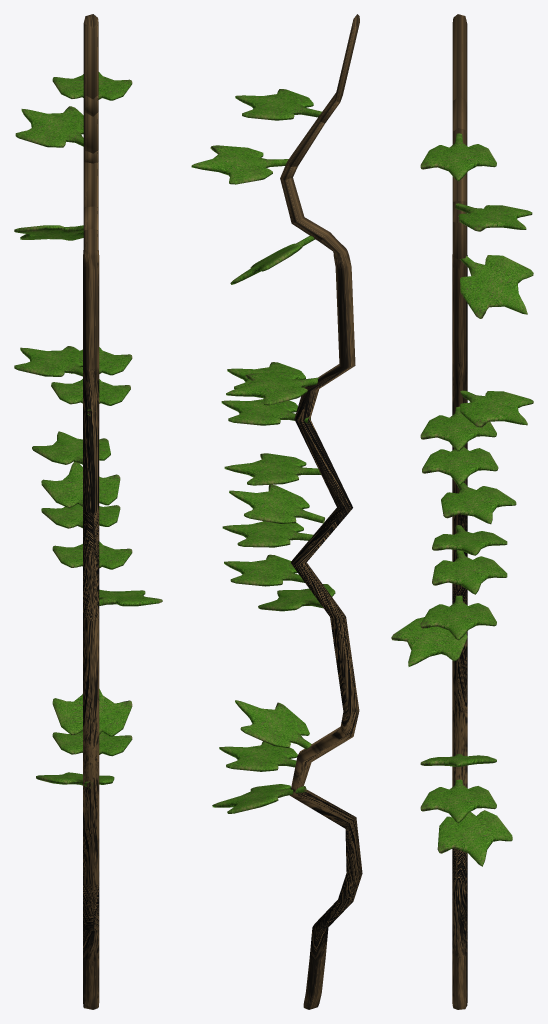
File: vine3.fbx
3 views of the same model, side by side, from view 1: azimuth 90°, elevation 25°; view 2: azimuth 150°, elevation 25°; view 3: azimuth 270°, elevation 25° (orthographic). The views are drawn at different scales.
Visible parts, largest first — view 1: stem6, leaf29, leaf1, leaf6, leaf12, leaf9, leaf30, leaf7, leaf3, leaf, leaf5, leaf13 (+3 smaller); view 2: stem6, leaf1, leaf6, leaf29, leaf12, leaf9, leaf30, leaf3, leaf, leaf5, leaf7, leaf2 (+3 smaller); view 3: stem6, leaf13, leaf2, leaf4, leaf12, leaf9, leaf5, leaf30, leaf3, leaf, leaf7, leaf10 (+3 smaller).
Boxes of the visible parts, <box> form: stem6: <box>83,14,99,1009</box>; leaf29: <box>15,106,83,147</box>; leaf1: <box>52,689,132,736</box>; leaf6: <box>41,462,120,507</box>; leaf12: <box>14,346,82,376</box>; leaf9: <box>32,431,110,464</box>; leaf30: <box>52,72,132,100</box>; leaf7: <box>51,379,130,415</box>; leaf3: <box>52,541,132,569</box>; leaf: <box>52,731,132,756</box>; leaf5: <box>41,504,120,528</box>; leaf13: <box>14,225,83,240</box>; stem6: <box>280,14,362,1009</box>; leaf1: <box>235,700,311,749</box>; leaf6: <box>229,484,324,523</box>; leaf29: <box>191,145,288,184</box>; leaf12: <box>226,372,318,405</box>; leaf9: <box>224,453,320,485</box>; leaf30: <box>235,89,321,120</box>; leaf3: <box>224,554,304,586</box>; leaf: <box>219,741,305,771</box>; leaf5: <box>222,521,313,547</box>; leaf7: <box>221,398,310,425</box>; leaf2: <box>212,784,306,813</box>; stem6: <box>452,14,467,1009</box>; leaf13: <box>460,255,533,318</box>; leaf2: <box>437,810,512,866</box>; leaf4: <box>391,617,467,666</box>; leaf12: <box>460,390,533,427</box>; leaf9: <box>441,482,516,524</box>; leaf5: <box>432,550,507,594</box>; leaf30: <box>420,133,496,181</box>; leaf3: <box>420,595,496,640</box>; leaf: <box>420,779,496,823</box>; leaf7: <box>422,446,498,485</box>; leaf10: <box>420,406,496,451</box>.
Size of the model in its own units: 2.48 by 16.64 by 2.21.
